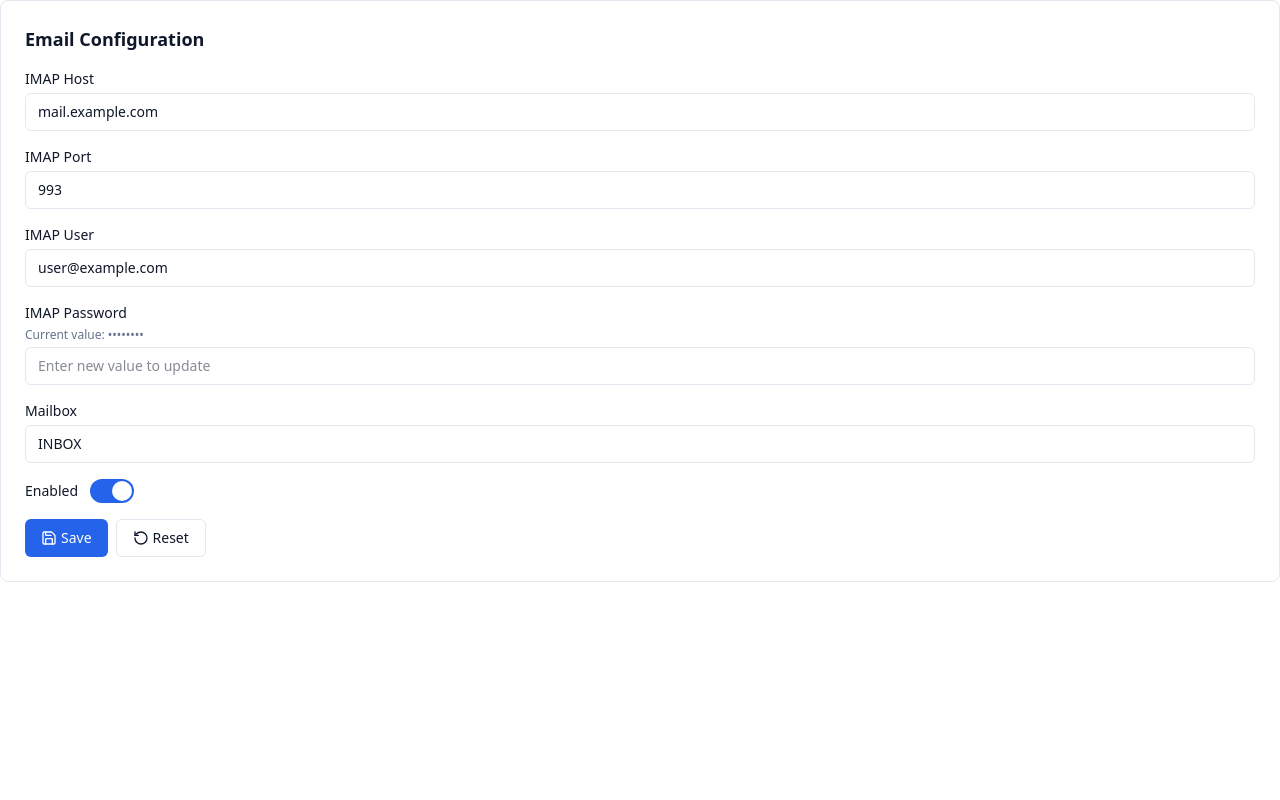
Scenario: ChannelConfigForm › resets form to initial values
Replace the text in the field with test id "field-input-imap_host" with "changed.com" at coordinates (640, 112), box [25,93,1255,131]
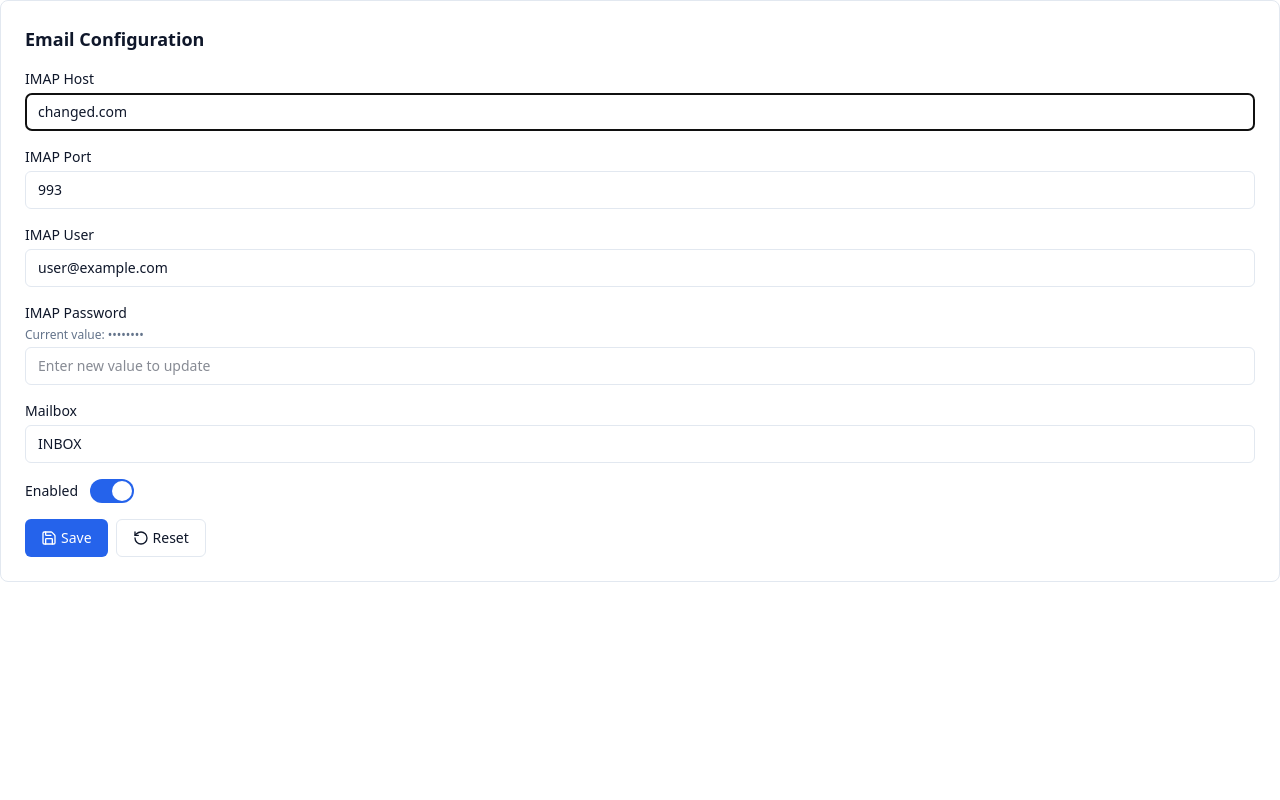
Click the button with test id "config-reset-btn" at coordinates (161, 538), box [116,519,206,557]
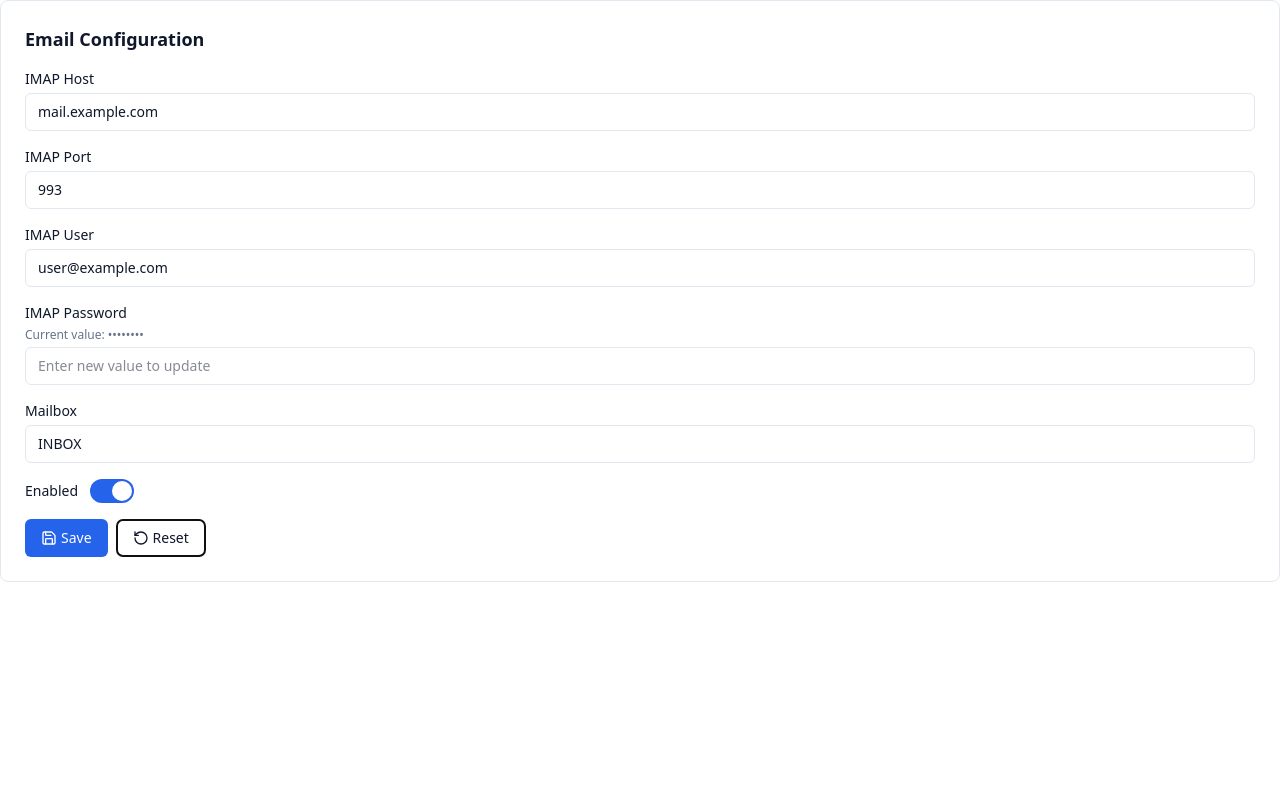
Expected: the field with test id "field-input-imap_host" holds "mail.example.com", [25,93,1255,131]
